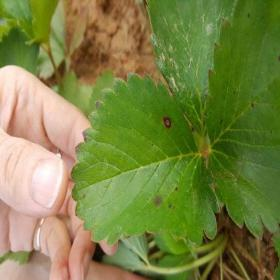Leaf Spot: (69, 70, 221, 246), (201, 0, 279, 241)
